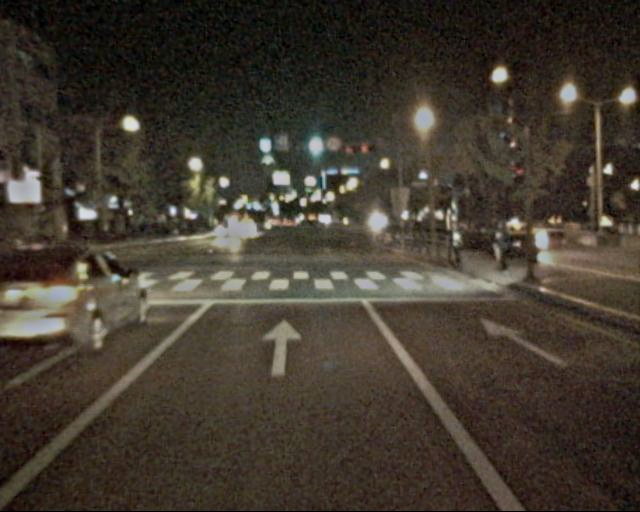person: (485, 219, 511, 283), (443, 222, 466, 277)
